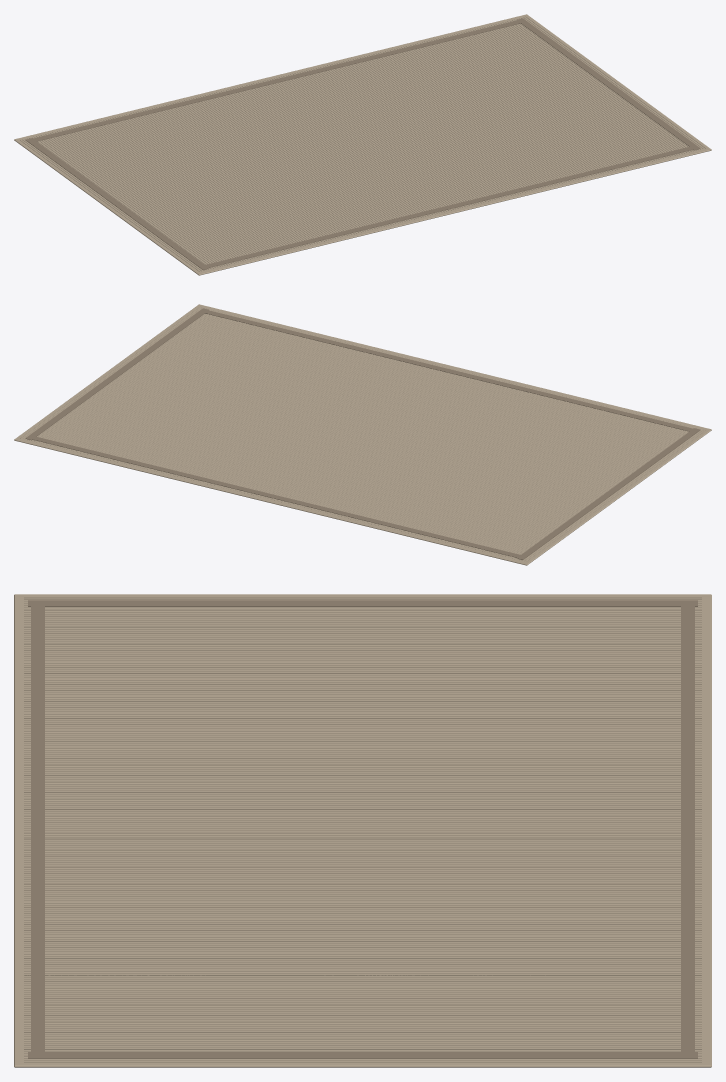
The model's file is woven-rug.glb.
The picture shows the model from 3 angles, top to bottom: view 1: azimuth 30°, elevation 25°; view 2: azimuth 150°, elevation 25°; view 3: azimuth 270°, elevation 25°; orthographic projection. The views are drawn at different scales.
Visible parts, largest first — view 1: Rug; view 2: Rug; view 3: Rug.
Part boxes in pixels (left/top/right/bottom): Rug: left=14, top=14, right=711, bottom=275; Rug: left=14, top=304, right=711, bottom=565; Rug: left=14, top=594, right=711, bottom=1067.
Bounding box in the file's own units: 2.8 × 0.008 × 1.75.
